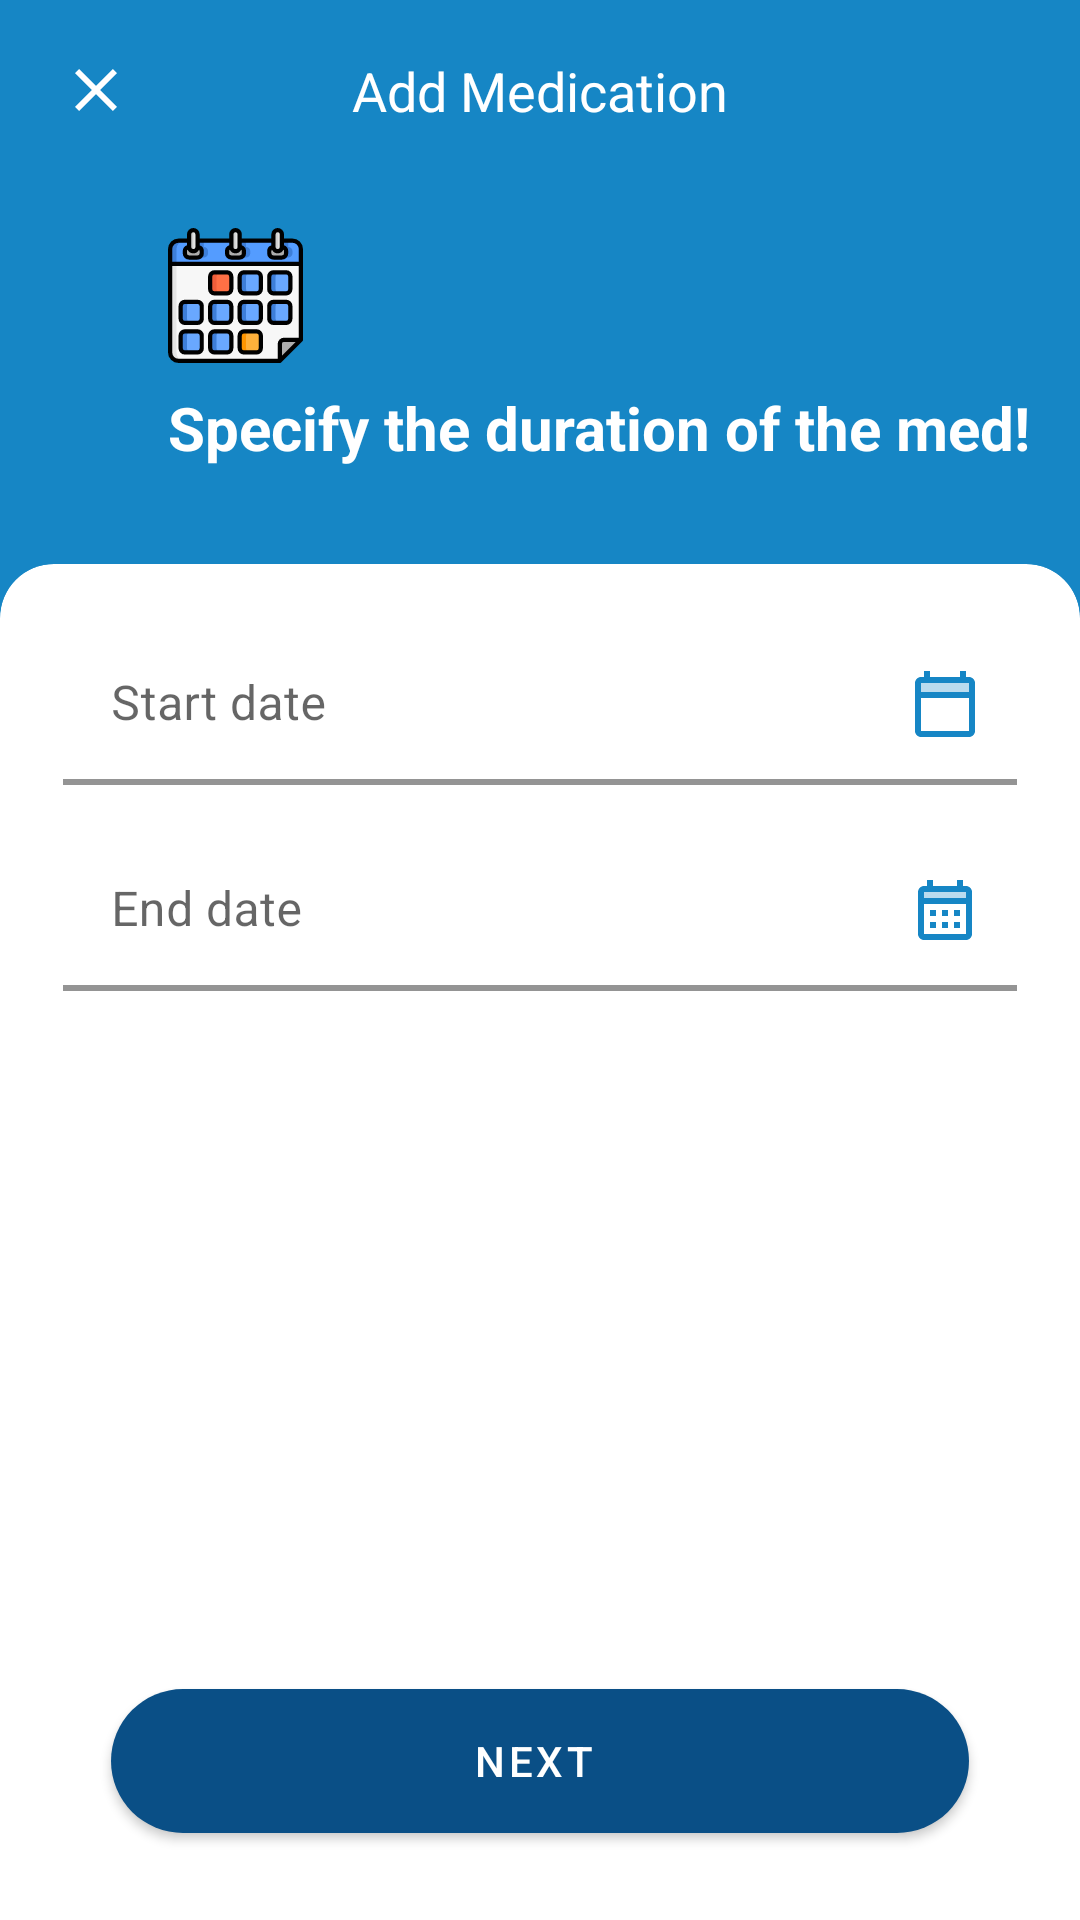

Icon click points for this 1080px x 1920px phone screenshot, format (x,y):
Close: (96,90)
